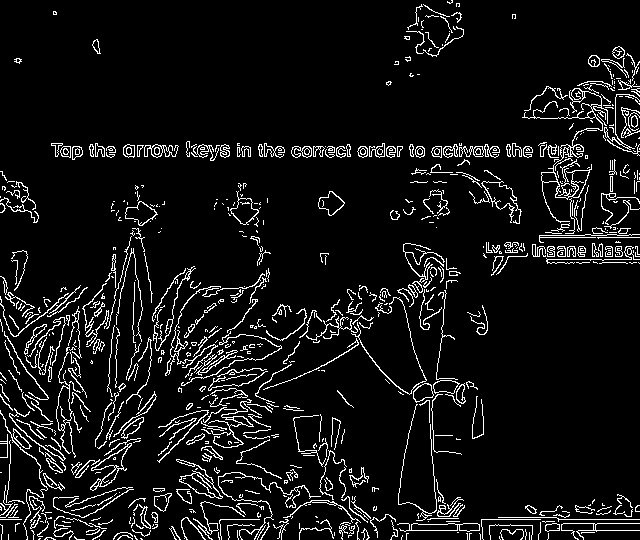down: (415, 184, 456, 225), (225, 190, 264, 232)
right: (311, 184, 353, 223), (122, 196, 161, 227)
